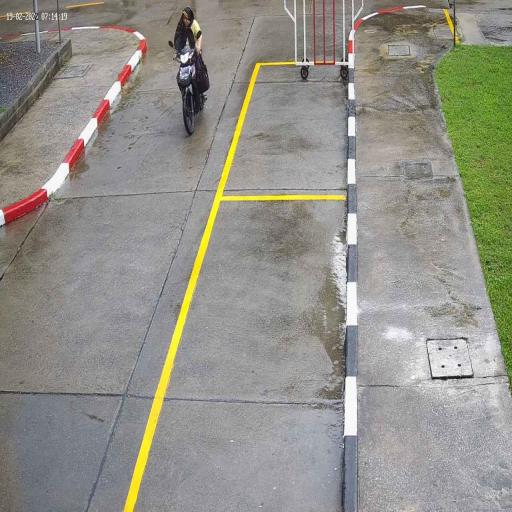motorcycle: (174, 46, 212, 135)
